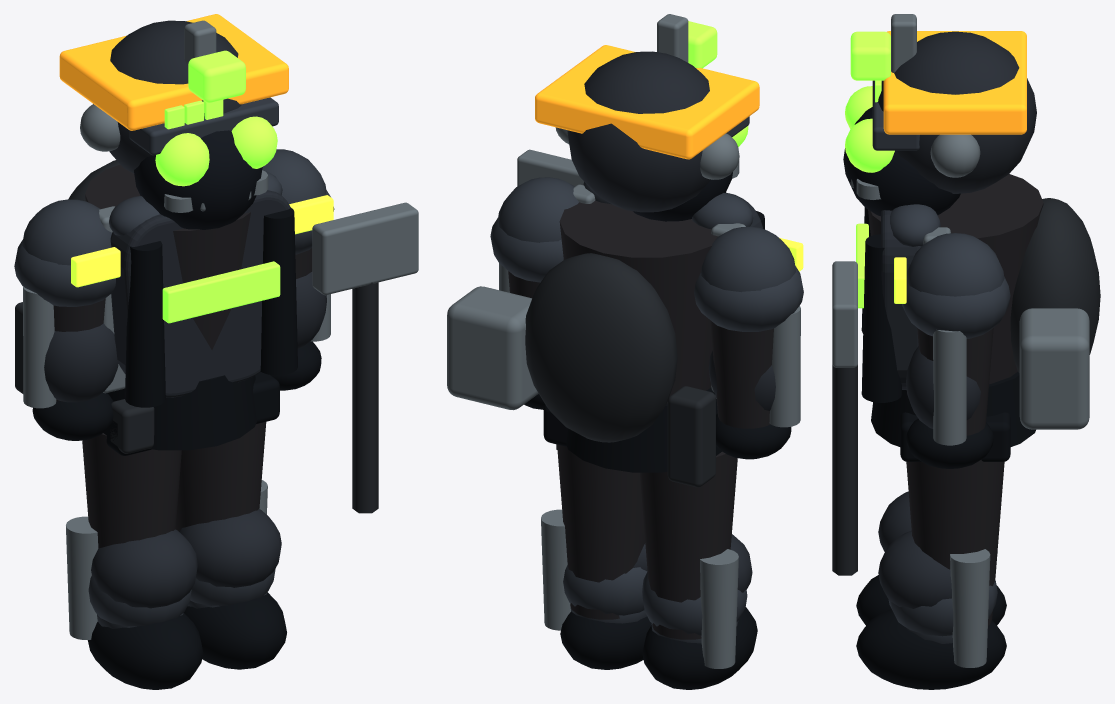
File: engineer_l03.glb
3 views of the same model, side by side, from view 1: azimuth 30°, elevation 25°; view 2: azimuth 150°, elevation 25°; view 3: azimuth 270°, elevation 25° (orthographic). The views are drawn at different scales.
Visible parts, largest first — view 1: trouser (×2), shaped_knee_guard (×2), rounded_boot (×2), contoured_vest, vest_tether (×2), safety_helmet_band, axe_head, enclosed_mask, shoulder_joint (×2), curved_forearm_guard (×2), axe_handle, waist_flex (+21 smaller); view 2: shaped_field_pack, trouser (×2), rounded_helmet, body, safety_helmet_band, repair_canister, shoulder_joint (×2), rounded_boot (×2), shin_frame (×2), shoulder_plate (×2), sleeve, knee_plate (×2) (+13 smaller); view 3: rounded_helmet, trouser, repair_canister, safety_helmet_band, shaped_field_pack, rounded_boot (×2), body, axe_handle, shaped_knee_guard (×2), shoulder_joint, vest_tether, shin_frame (+20 smaller).
Part boxes in pixels (box(x1,y1,x2,y2)): trouser (×2): box(82, 422, 266, 548); shaped_knee_guard (×2): box(91, 509, 281, 608); rounded_boot (×2): box(87, 592, 286, 689); contoured_vest: box(110, 190, 290, 397); vest_tether (×2): box(125, 207, 297, 407); safety_helmet_band: box(59, 14, 288, 130); axe_head: box(312, 202, 418, 295); enclosed_mask: box(134, 130, 262, 229); shoulder_joint (×2): box(22, 149, 326, 265); curved_forearm_guard (×2): box(44, 272, 326, 402); axe_handle: box(352, 282, 378, 513); waist_flex: box(107, 375, 256, 450); shaped_field_pack: box(525, 253, 677, 442); trouser (×2): box(557, 444, 737, 639); rounded_helmet: box(567, 51, 726, 212); body: box(559, 200, 718, 403); safety_helmet_band: box(535, 45, 759, 159); repair_canister: box(447, 286, 538, 410); shoulder_joint (×2): box(498, 177, 795, 292); rounded_boot (×2): box(560, 607, 757, 689); shin_frame (×2): box(541, 509, 738, 668); shoulder_plate (×2): box(490, 217, 803, 331); sleeve: box(710, 320, 773, 428); knee_plate (×2): box(563, 565, 747, 635); rounded_helmet: box(878, 31, 1036, 193); trouser: box(906, 460, 1004, 625); repair_canister: box(1019, 308, 1089, 429); safety_helmet_band: box(883, 31, 1026, 134); shaped_field_pack: box(1010, 198, 1100, 372); rounded_boot (×2): box(856, 575, 1006, 689); body: box(868, 174, 1043, 383); axe_handle: box(832, 364, 857, 575); shaped_knee_guard (×2): box(878, 491, 951, 608); shoulder_joint: box(906, 233, 1004, 296); vest_tether: box(861, 234, 902, 402); shin_frame: box(950, 549, 990, 667).
Size of the model in its own units: 1.05 by 1.94 by 0.73.
